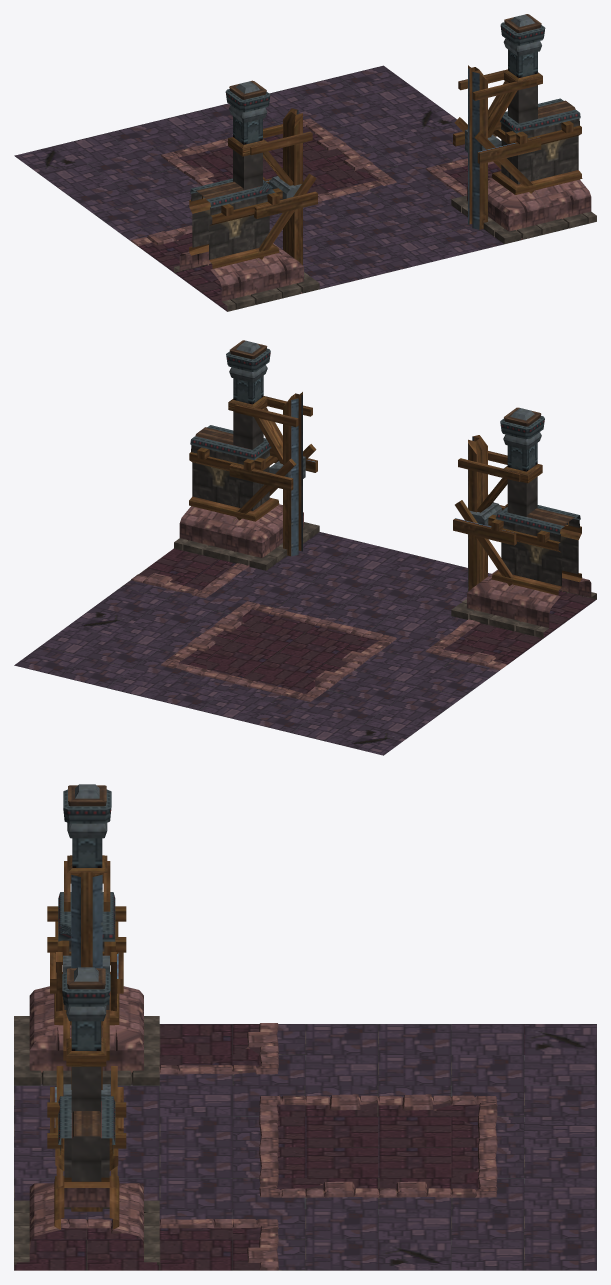
File: Room_Door_16_A.fbx
3 views of the same model, one above another, from view 1: azimuth 30°, elevation 25°; view 2: azimuth 150°, elevation 25°; view 3: azimuth 270°, elevation 25° (orthographic). The views are drawn at different scales.
Visible parts, largest first — view 1: Room_Door_16_A; view 2: Room_Door_16_A; view 3: Room_Door_16_A.
Part boxes in pixels (x1,y1,x2,y2): Room_Door_16_A: [14, 14, 596, 311]; Room_Door_16_A: [14, 340, 596, 755]; Room_Door_16_A: [14, 784, 596, 1270].
Size of the model in its own units: 1600 by 811 by 1600.
